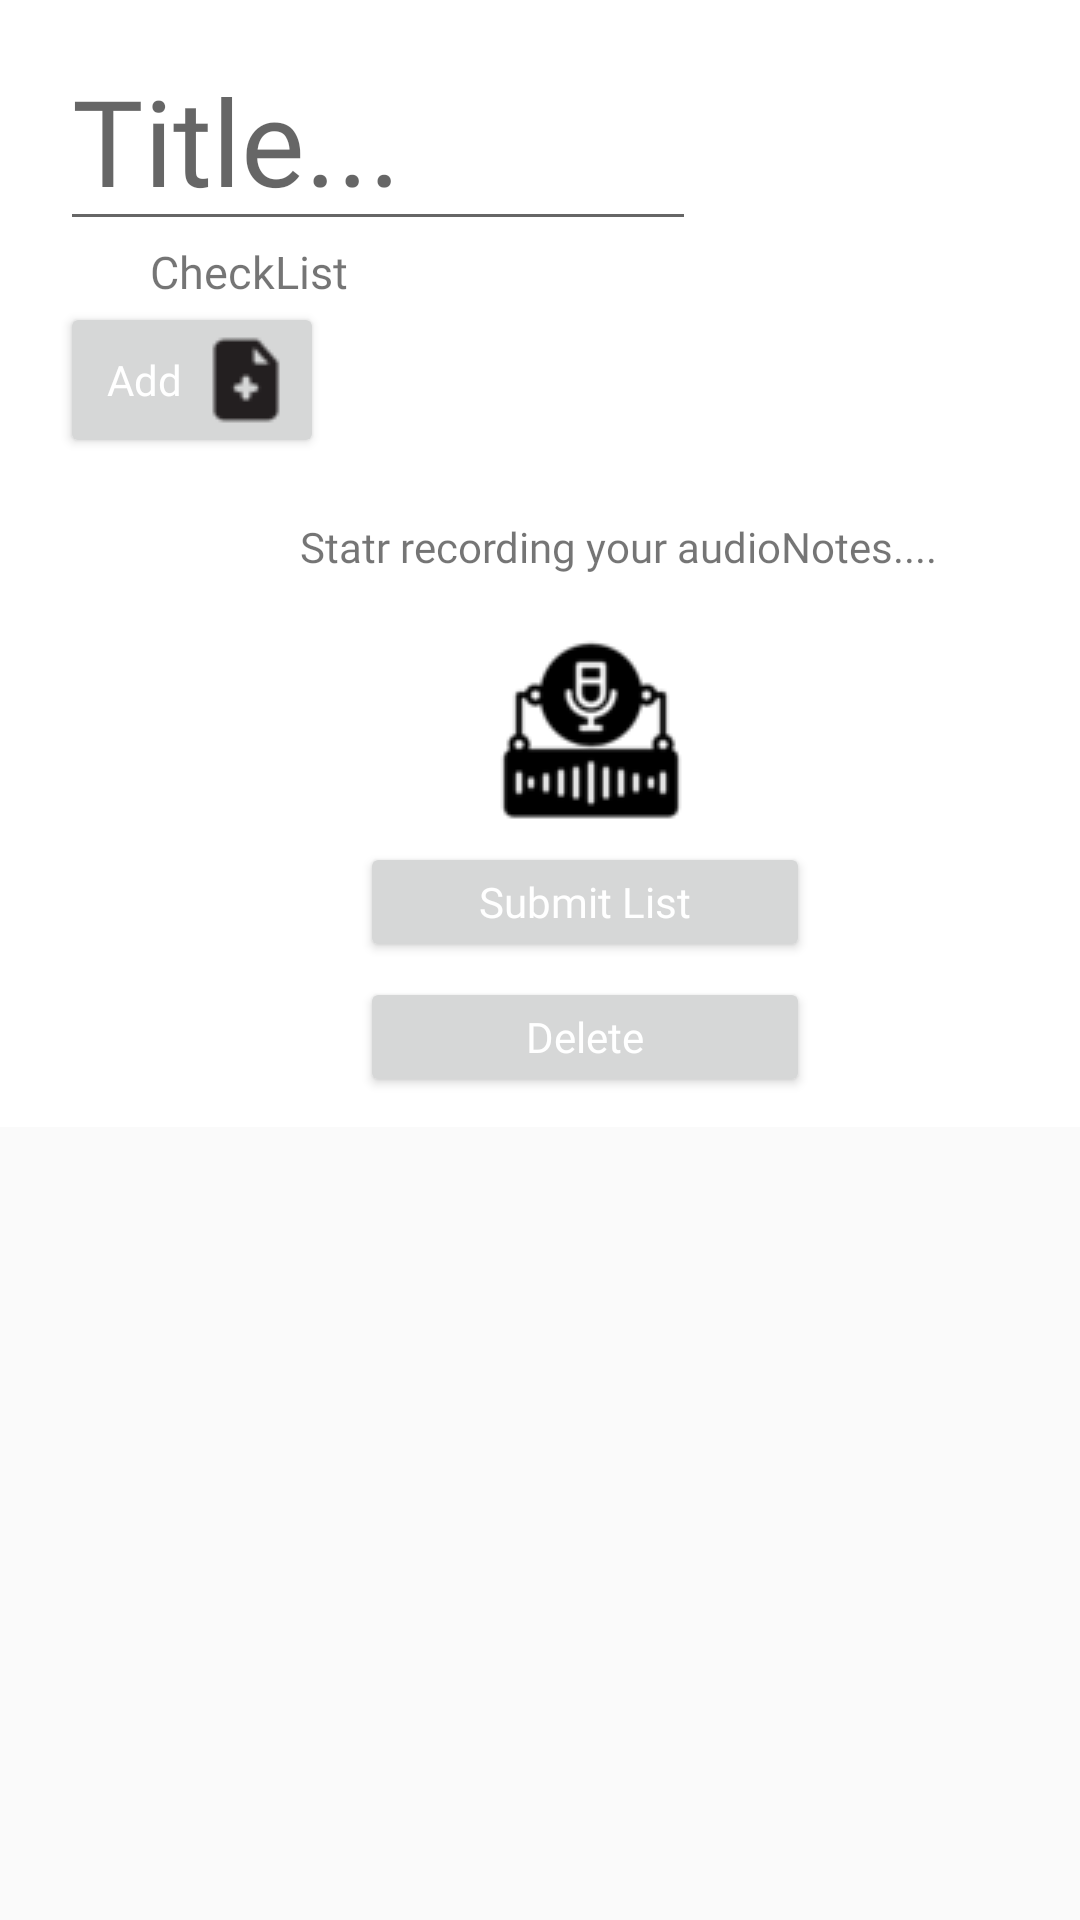

Icons on this 1080 × 1920 Android screen, each with its box as Rect(x1, y1, x2, y2):
voicesearch: Rect(502, 642, 680, 819)
